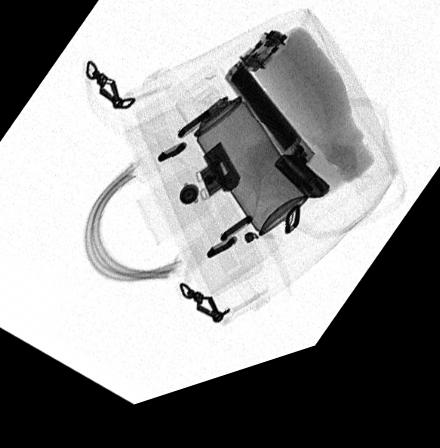Lighter: (273, 170, 332, 218)
Powerbank: (225, 74, 315, 188)
Sprayer: (173, 80, 308, 252)
